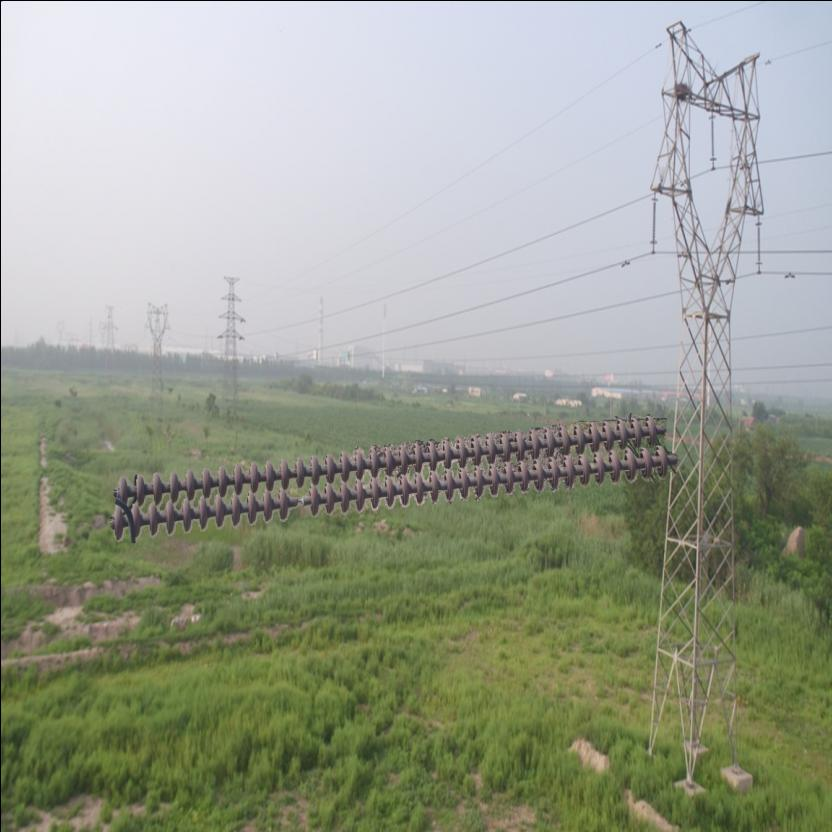defect: (274, 480, 326, 518)
